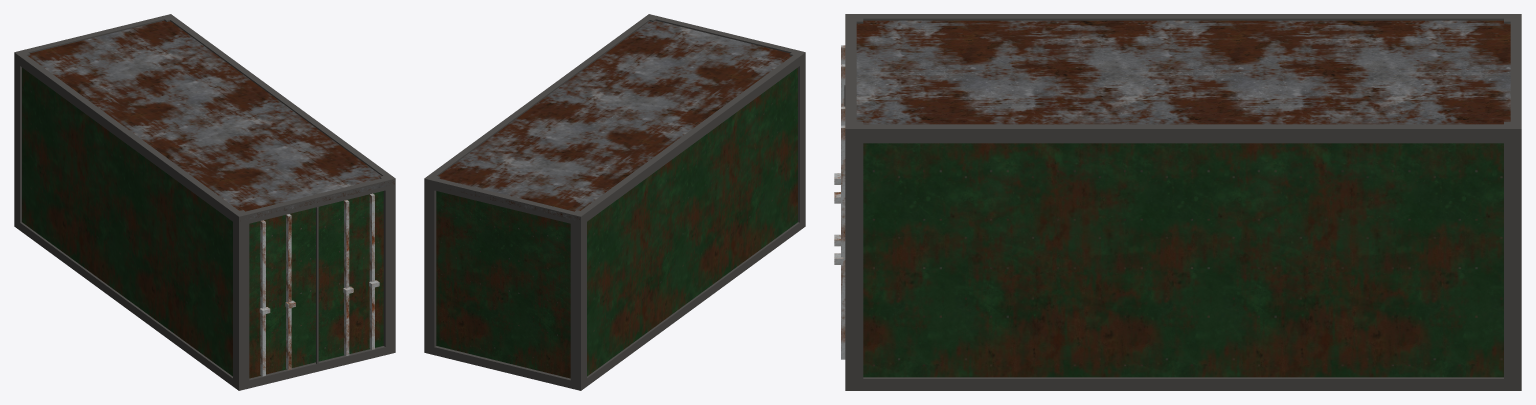
File: container_20_verde.glb
The picture shows the model from 3 angles, left to right: view 1: azimuth 30°, elevation 25°; view 2: azimuth 150°, elevation 25°; view 3: azimuth 270°, elevation 25°; orthographic projection. The views are drawn at different scales.
Parts seen in each view (by area): view 1: cont_verde; view 2: cont_verde; view 3: cont_verde.
Boxes of the visible parts, x1,y1,x2,y2 form: cont_verde: (14, 14, 395, 390); cont_verde: (424, 14, 805, 390); cont_verde: (834, 14, 1521, 390).
Bounding box in the file's own units: 2.44 × 2.59 × 6.16.
Materials: 4 (3 with a texture image).
